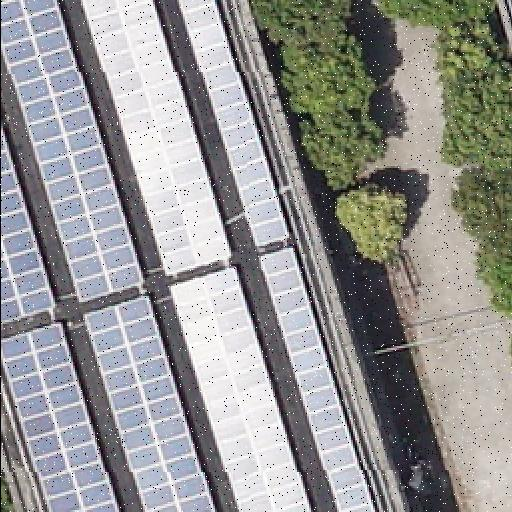solar-panel: (0, 0, 144, 304), (82, 1, 234, 279), (168, 265, 312, 511), (257, 248, 375, 512), (80, 296, 216, 512), (177, 0, 287, 248), (0, 321, 120, 511), (0, 123, 56, 325)
